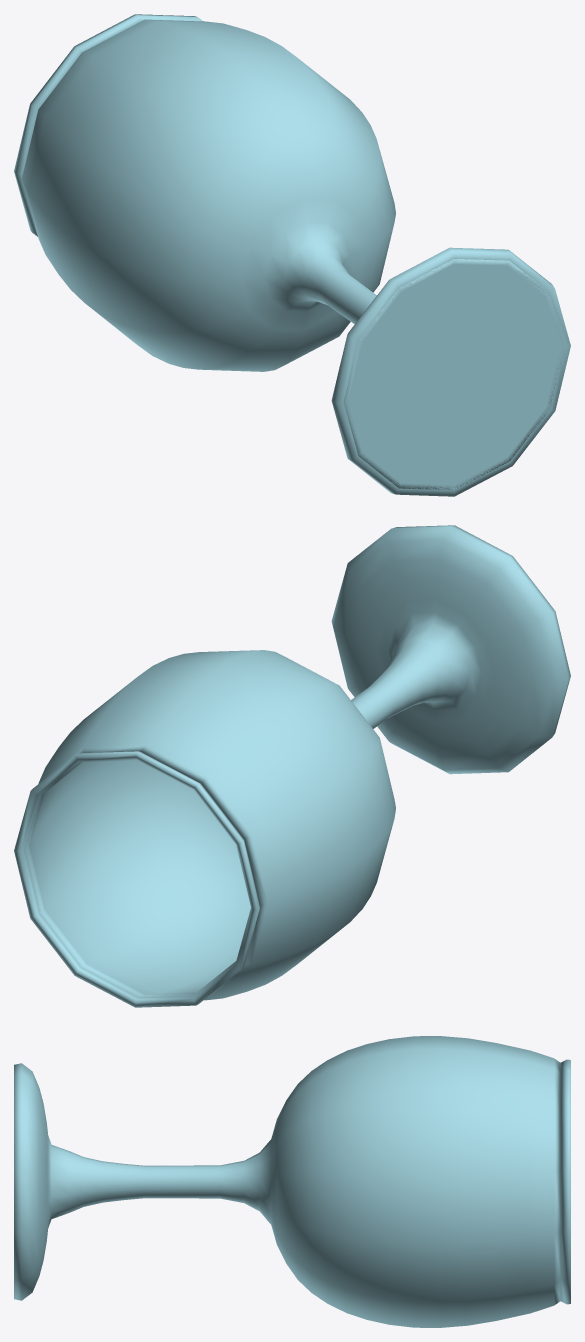
Rendered from Cup.fbx.
The picture shows the model from 3 angles, top to bottom: view 1: azimuth 30°, elevation 25°; view 2: azimuth 150°, elevation 25°; view 3: azimuth 270°, elevation 25°; orthographic projection. The views are drawn at different scales.
Parts seen in each view (by area): view 1: Vert; view 2: Vert; view 3: Vert.
Boxes of the visible parts, x1,y1,x2,y2 form: Vert: (14,14,570,496); Vert: (14,525,570,1007); Vert: (14,1036,570,1327).
Size of the model in its own units: 0.207 by 0.207 by 0.3935.
